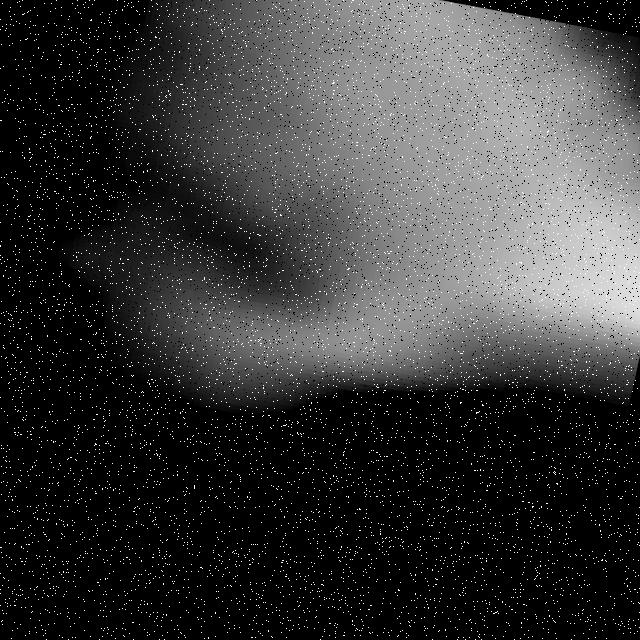person: (1, 1, 640, 478)
